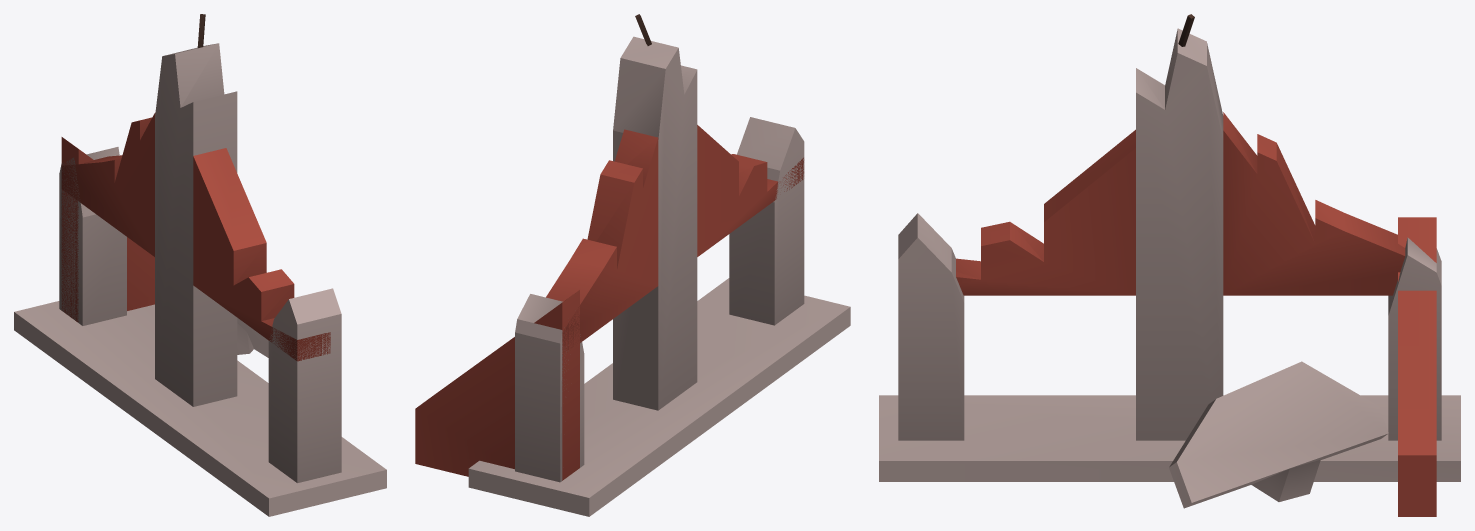
The picture shows the model from 3 angles, left to right: view 1: azimuth 30°, elevation 25°; view 2: azimuth 150°, elevation 25°; view 3: azimuth 270°, elevation 25°; orthographic projection. The views are drawn at different scales.
Parts seen in each view (by area): view 1: body_pal_sidewalk, body_pal_brick; view 2: body_pal_sidewalk, body_pal_brick; view 3: body_pal_sidewalk, body_pal_brick.
Boxes of the visible parts, left/top/right/bottom form: body_pal_sidewalk: left=14, top=43, right=386, bottom=516; body_pal_brick: left=61, top=112, right=330, bottom=361; body_pal_sidewalk: left=468, top=36, right=850, bottom=516; body_pal_brick: left=415, top=125, right=804, bottom=480; body_pal_sidewalk: left=879, top=28, right=1460, bottom=508; body_pal_brick: left=956, top=112, right=1436, bottom=516.
Bounding box in the file's own units: 2.65 × 5.02 × 6.
